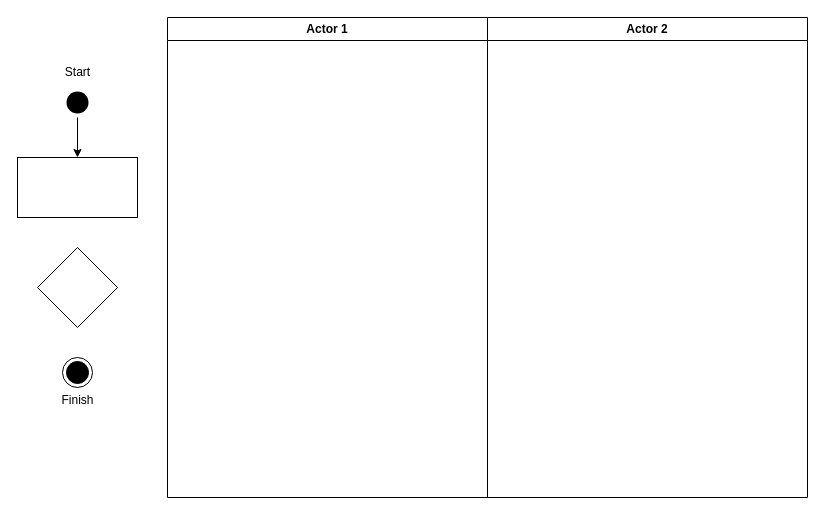
Image size: 825x515. Some labels were removed from this diagram. The shapes that lost their labels are listed below. From the top down, each one's box as (x1, y1, x2, y2) in pixels, then its label:
(16, 156, 138, 218): Action
(36, 246, 118, 328): Conditional
